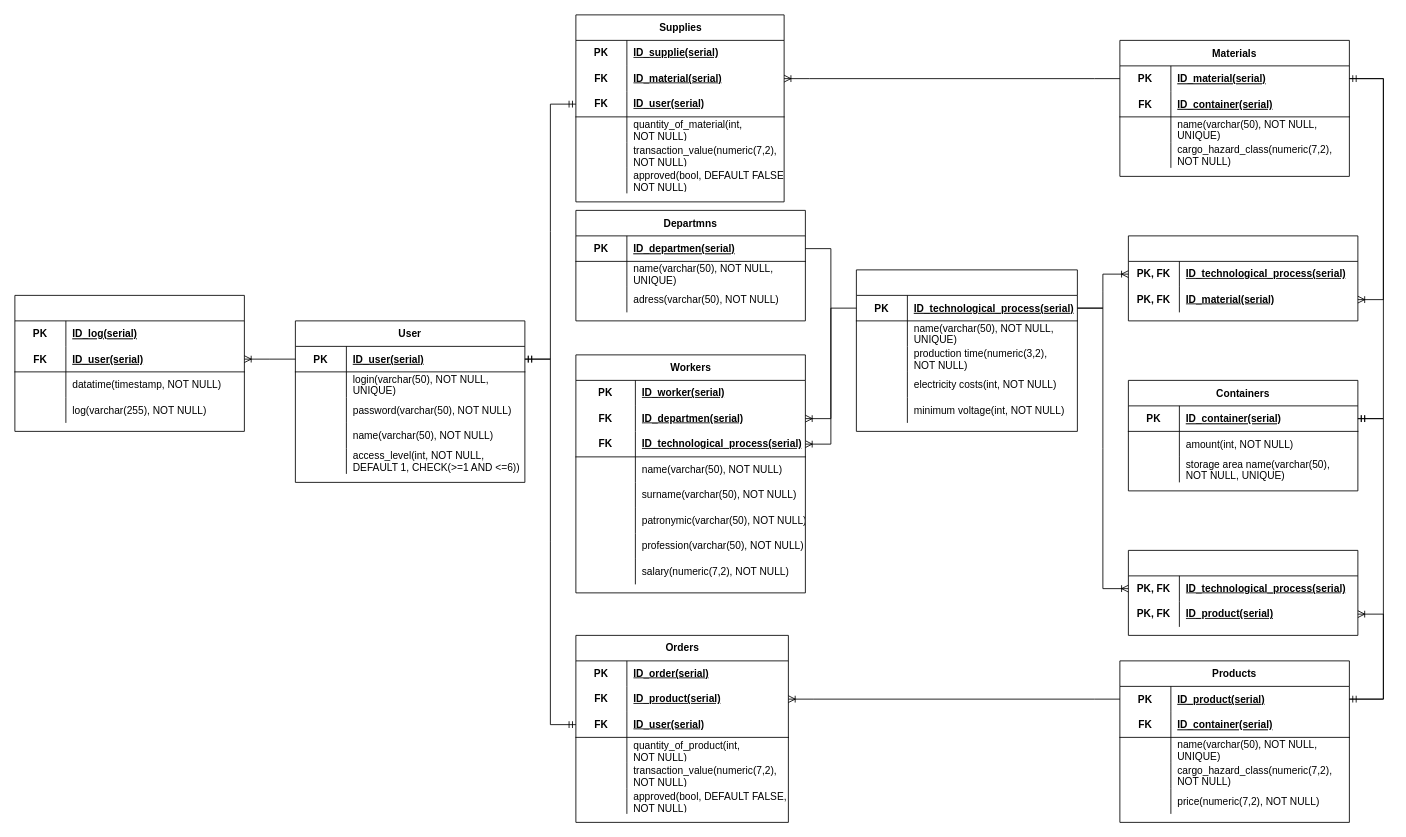
Image size: 1406x837. Some labels were removed from this diagram. The box of each missing label's shape, as (x1, y1, x2, y2) in pixels:
logging: (14, 295, 244, 431)
Materials in Technological processes: (1128, 235, 1358, 321)
Products in Technological processes: (1128, 550, 1358, 635)
Technological processes: (856, 269, 1077, 431)
